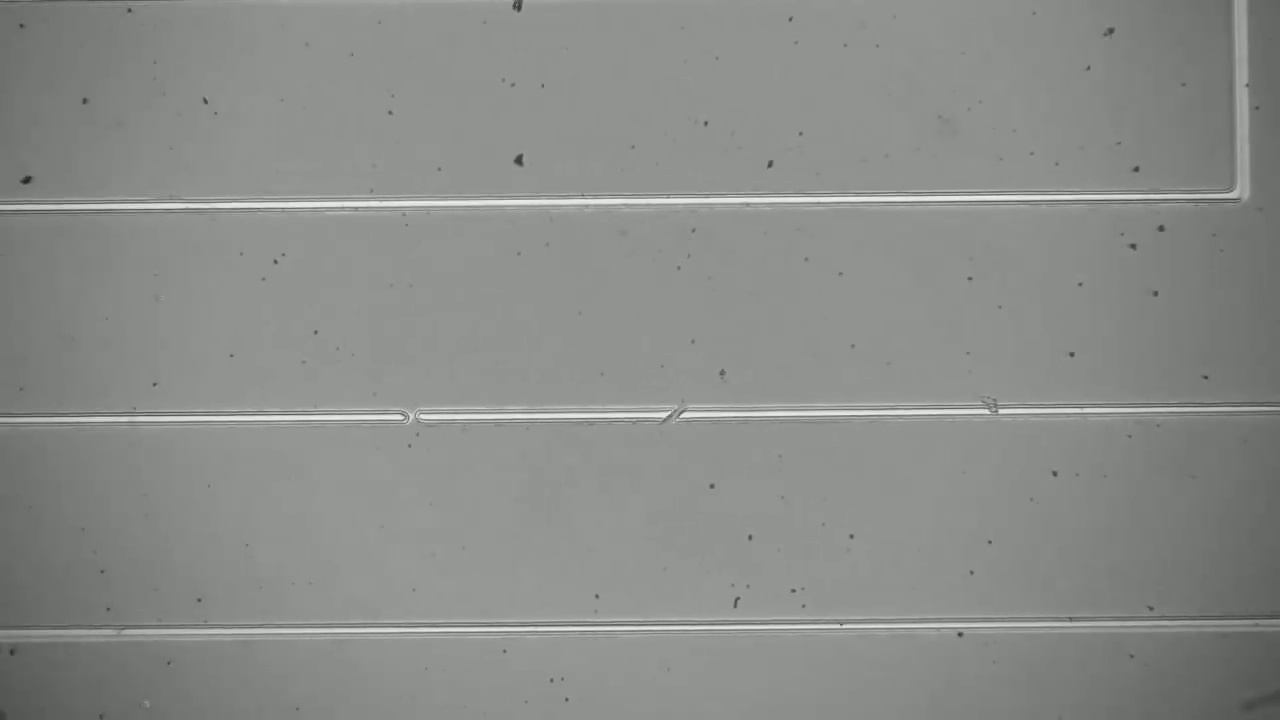open: (652, 395, 703, 439), (387, 395, 436, 436)
stains_enbedded: (971, 385, 1011, 434)
